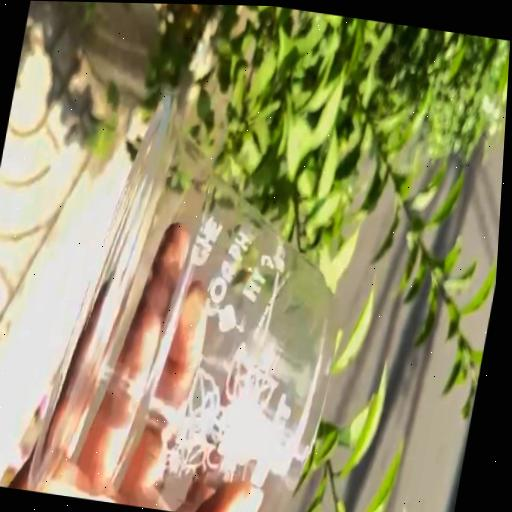ly_giay: (27, 98, 336, 512)
